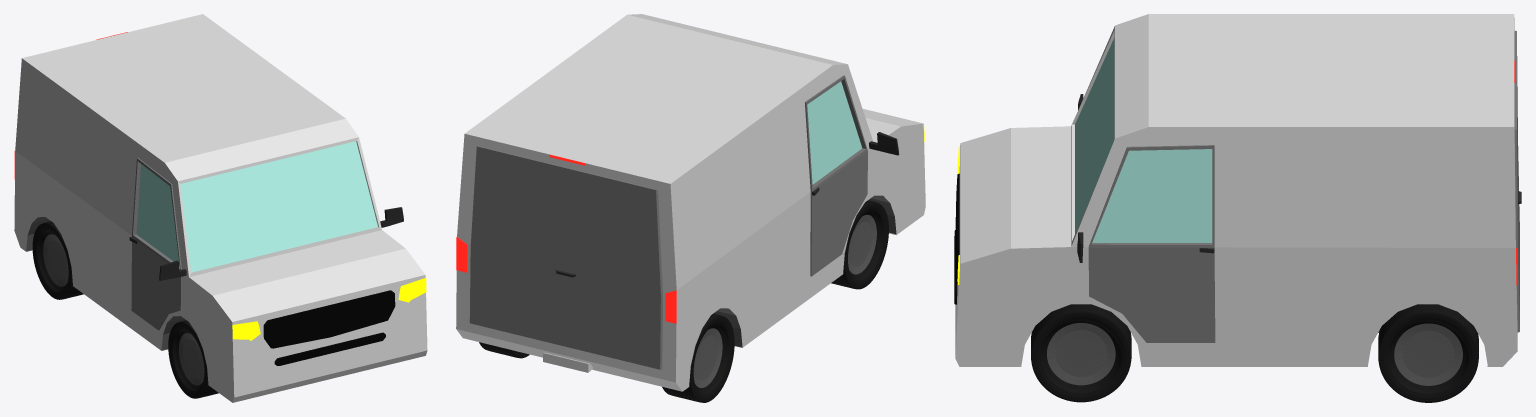
The model's file is van mbg.fbx.
The picture shows the model from 3 angles, left to right: view 1: azimuth 30°, elevation 25°; view 2: azimuth 150°, elevation 25°; view 3: azimuth 270°, elevation 25°; orthographic projection. The views are drawn at different scales.
Visible parts, largest first — view 1: vanMBG, wheelBR, wheelFR; view 2: vanMBG, wheelBR, wheelFR; view 3: vanMBG, wheelBL, wheelFL.
Part boxes in pixels (<box>): vanMBG: <box>14,14,427,402</box>; wheelBR: <box>32,221,83,299</box>; wheelFR: <box>168,320,218,398</box>; vanMBG: <box>456,14,925,391</box>; wheelBR: <box>662,313,734,402</box>; wheelFR: <box>831,200,888,289</box>; vanMBG: <box>954,14,1521,366</box>; wheelBL: <box>1378,304,1478,402</box>; wheelFL: <box>1031,304,1131,402</box>.
Size of the model in its own units: 248 by 207 by 390.
